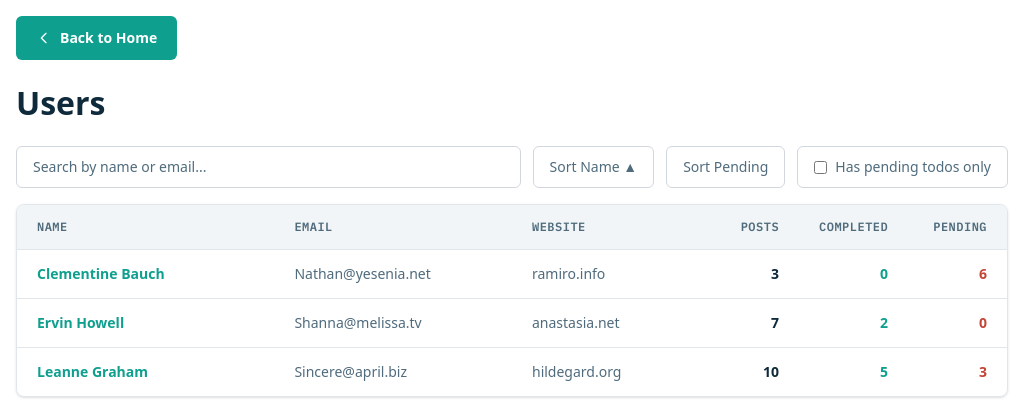
Test: UsersList › filters to show only users with pending todos
Click the checkbox labelled "Has pending todos only".
click(821, 167)  # box [814,161,827,174]
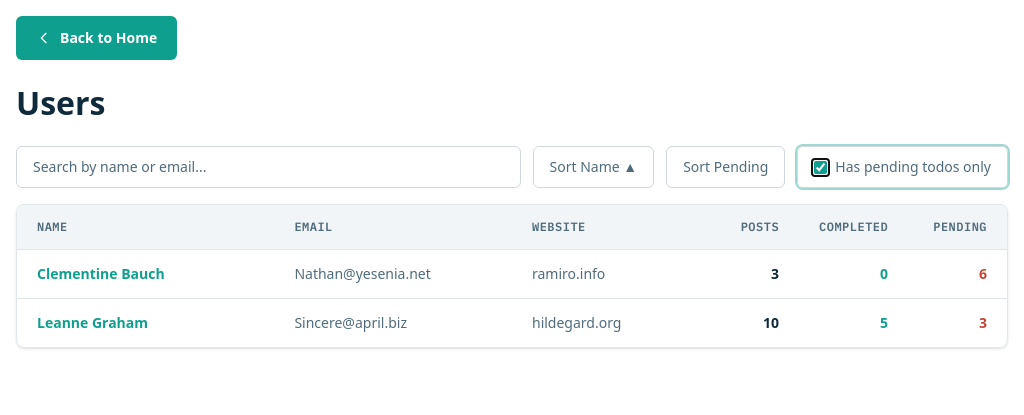
Expected: the link "Leanne Graham" is shown, [37,313,148,332]
Expected: the link "Ervin Howell" is gone
